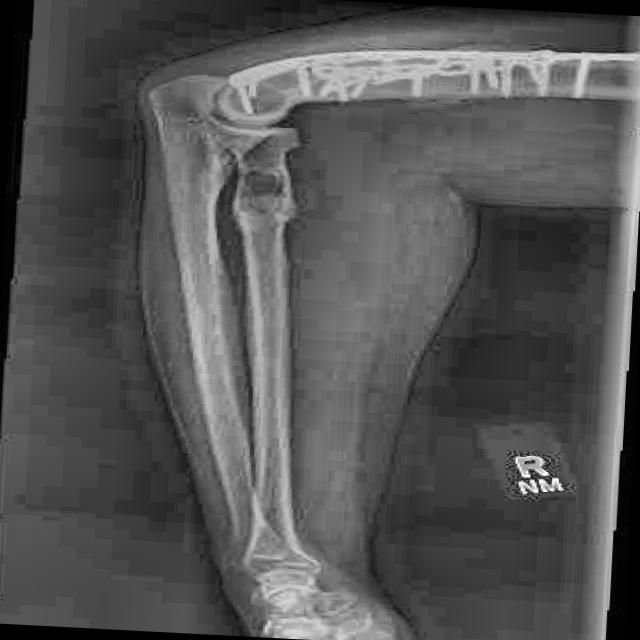forearm fracture: (202, 181, 327, 266)
